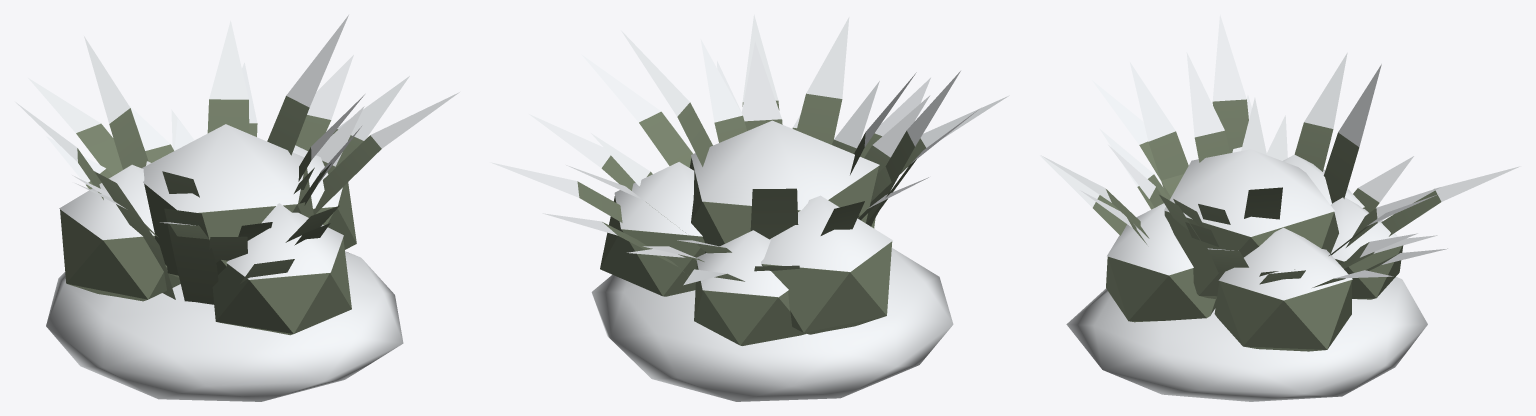
Rendered from frost_shrub.glb.
3 renders of one model, left to right at view 1: azimuth 30°, elevation 25°; view 2: azimuth 150°, elevation 25°; view 3: azimuth 270°, elevation 25°, orthographic. The views are drawn at different scales.
Parts seen in each view (by area): view 1: Body; view 2: Body; view 3: Body.
Part boxes in pixels (bbox=[...]): Body: bbox=[15, 15, 459, 401]; Body: bbox=[490, 14, 1009, 401]; Body: bbox=[1040, 14, 1520, 401].
Bounding box in the file's own units: 1.62 × 1.14 × 1.76.
